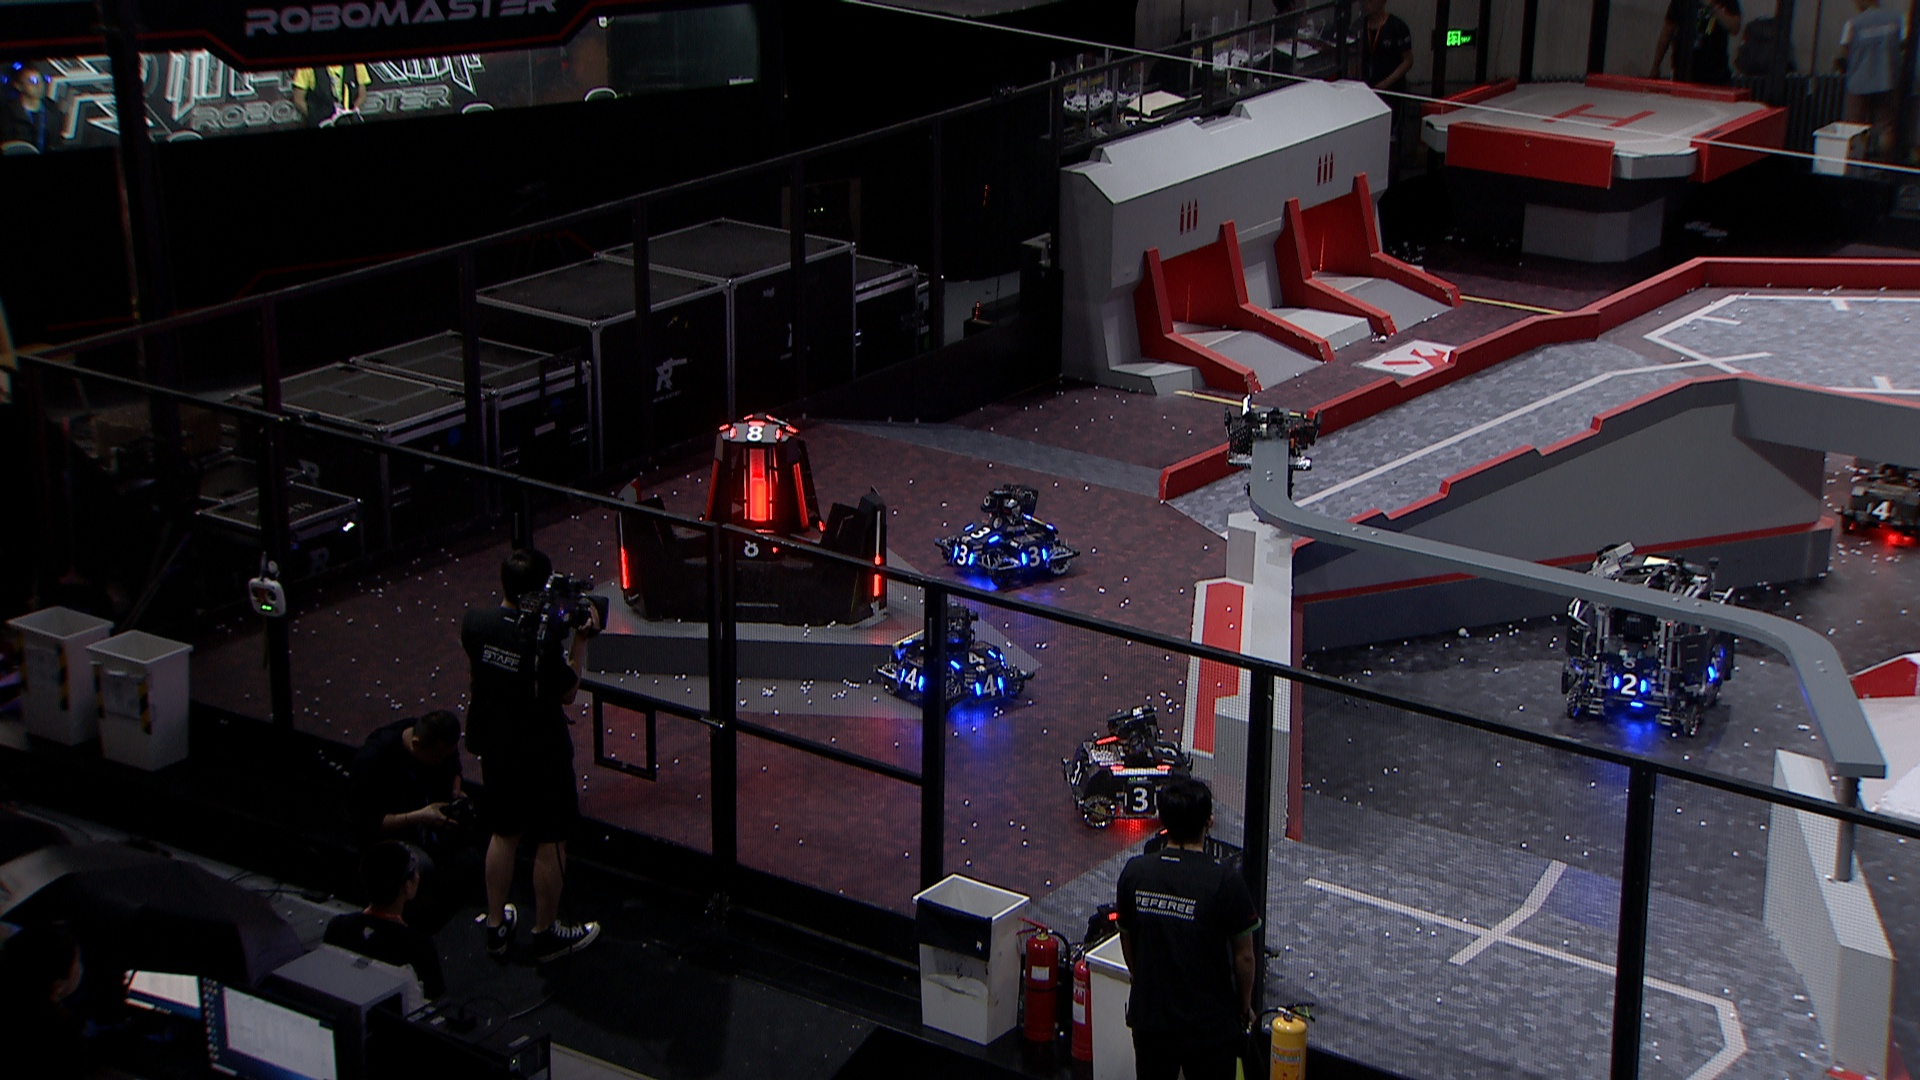armor: (746, 475, 770, 529), (702, 454, 719, 527), (793, 463, 808, 527), (949, 647, 996, 669), (733, 534, 774, 556), (731, 422, 783, 439), (1120, 787, 1156, 811), (1610, 674, 1647, 698), (897, 666, 924, 692), (1153, 737, 1178, 766), (1865, 498, 1899, 520), (963, 524, 998, 543), (975, 674, 1005, 695), (618, 543, 632, 589), (1064, 756, 1083, 785), (948, 546, 975, 566), (1021, 547, 1048, 566), (872, 555, 884, 597), (1706, 657, 1722, 680)
base: (611, 405, 891, 624)
car: (1560, 542, 1746, 744), (1083, 835, 1273, 1010), (878, 597, 1038, 708), (1058, 705, 1196, 831), (938, 485, 1077, 589), (1840, 438, 1920, 549)
watcher: (1220, 386, 1324, 506)
